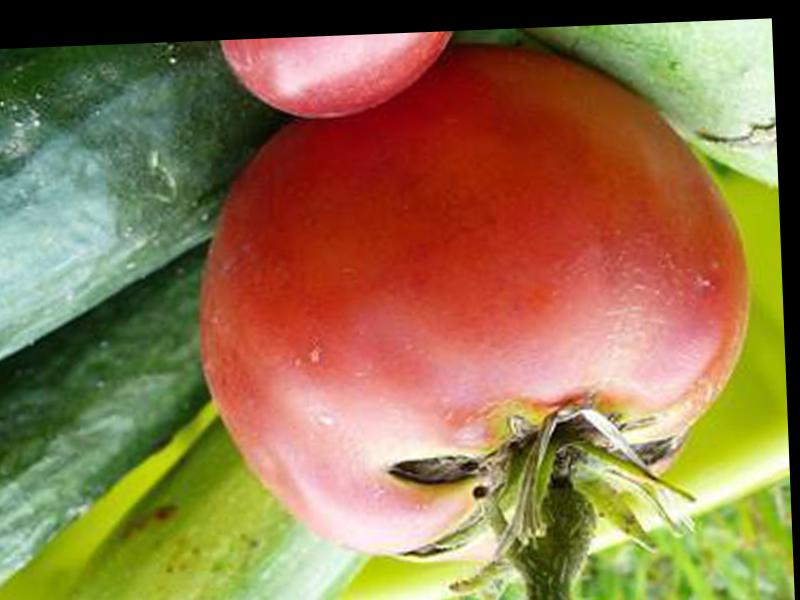Tomato: (193, 32, 761, 563)
